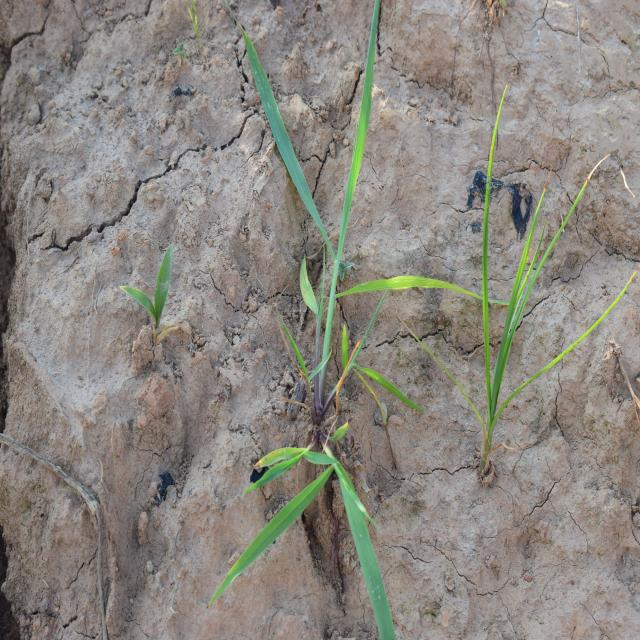green_foxtail: (266, 0, 394, 379), (214, 419, 399, 596)
